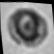correct: (2, 2, 54, 54)
